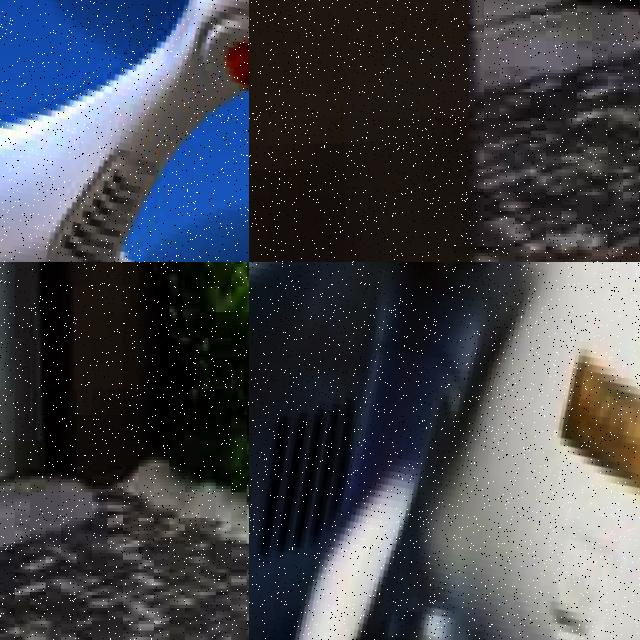drone: (249, 262, 640, 640), (0, 0, 249, 262)
